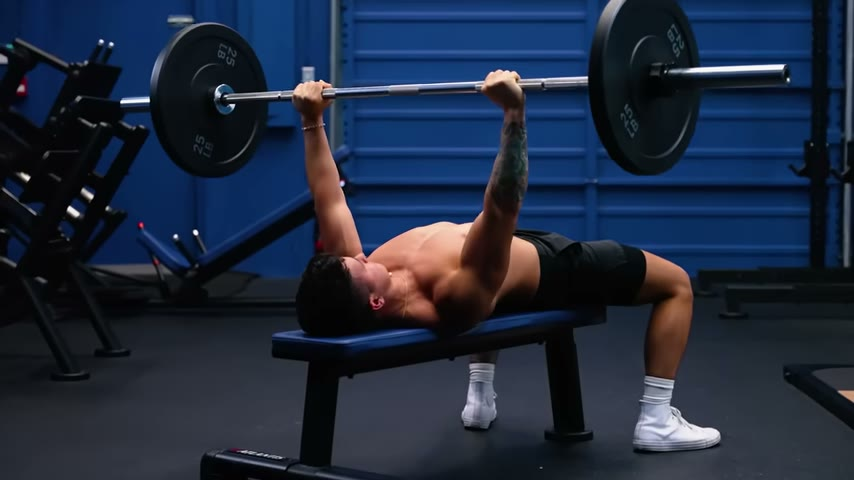barbell_plate_side: (672, 0, 801, 193), (157, 18, 263, 193)
